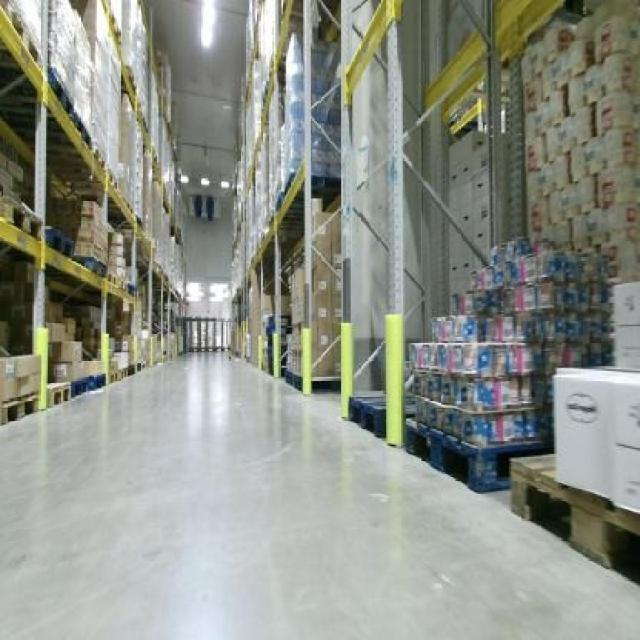floor: (0, 352, 637, 637)
pallets: (403, 238, 609, 489), (552, 368, 637, 509)
